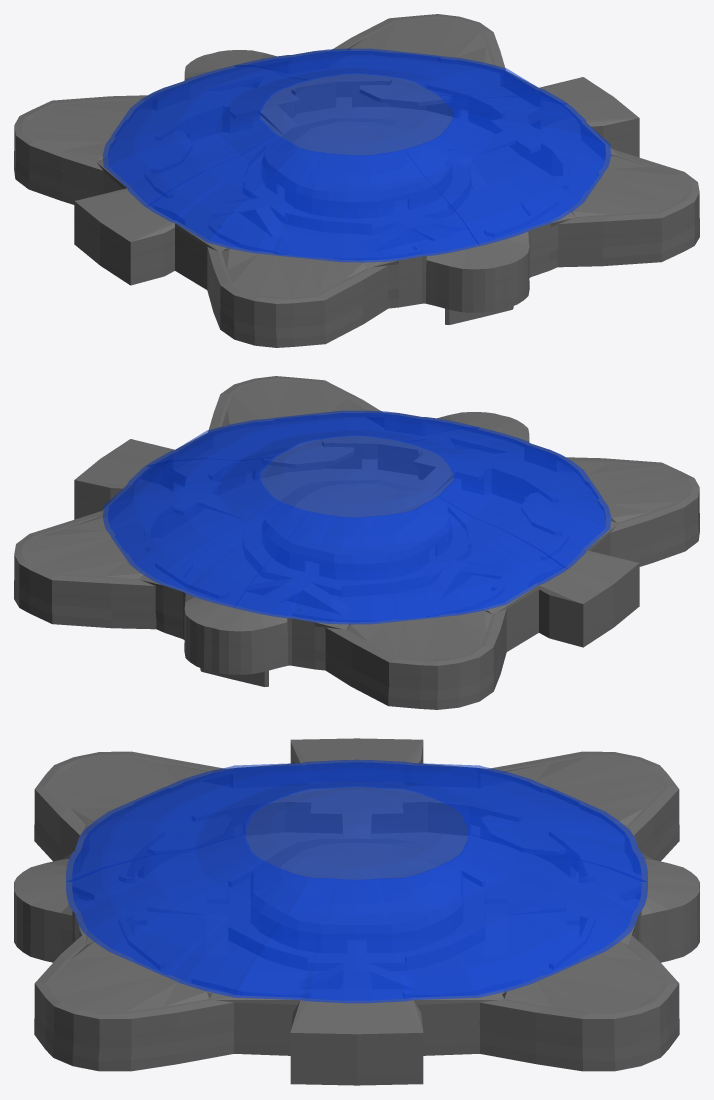
Rendered from SpaceMapMaybeFix.fbx.
3 views of the same model, one above another, from view 1: azimuth 30°, elevation 25°; view 2: azimuth 150°, elevation 25°; view 3: azimuth 270°, elevation 25° (orthographic). The views are drawn at different scales.
Visible parts, largest first — view 1: Floor1SpawnWalls.001, Ceiling, MainBuildingCatwalk; view 2: Floor1SpawnWalls.001, Ceiling, MainBuildingCatwalk; view 3: Ceiling, Floor1SpawnWalls.001, MainBuildingCatwalk.
Boxes of the visible parts, box(x1,y1,x2,y2) form: Floor1SpawnWalls.001: box(14, 14, 699, 338); Ceiling: box(102, 48, 611, 262); MainBuildingCatwalk: box(14, 55, 699, 347); Floor1SpawnWalls.001: box(14, 376, 699, 700); Ceiling: box(102, 410, 611, 624); MainBuildingCatwalk: box(14, 417, 699, 709); Ceiling: box(66, 759, 647, 1003); Floor1SpawnWalls.001: box(14, 738, 699, 1075); MainBuildingCatwalk: box(14, 757, 699, 1085).
Bounding box in the file's own units: 15702 × 3472 × 15381.
